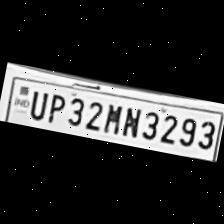2: (82, 96, 106, 132), (156, 109, 180, 145)
3: (62, 90, 88, 128), (193, 116, 218, 152), (138, 106, 162, 142)
9: (174, 112, 198, 148)
M: (100, 99, 122, 135)
N: (119, 101, 143, 138)
P: (43, 88, 67, 124)
U: (25, 85, 50, 120)
